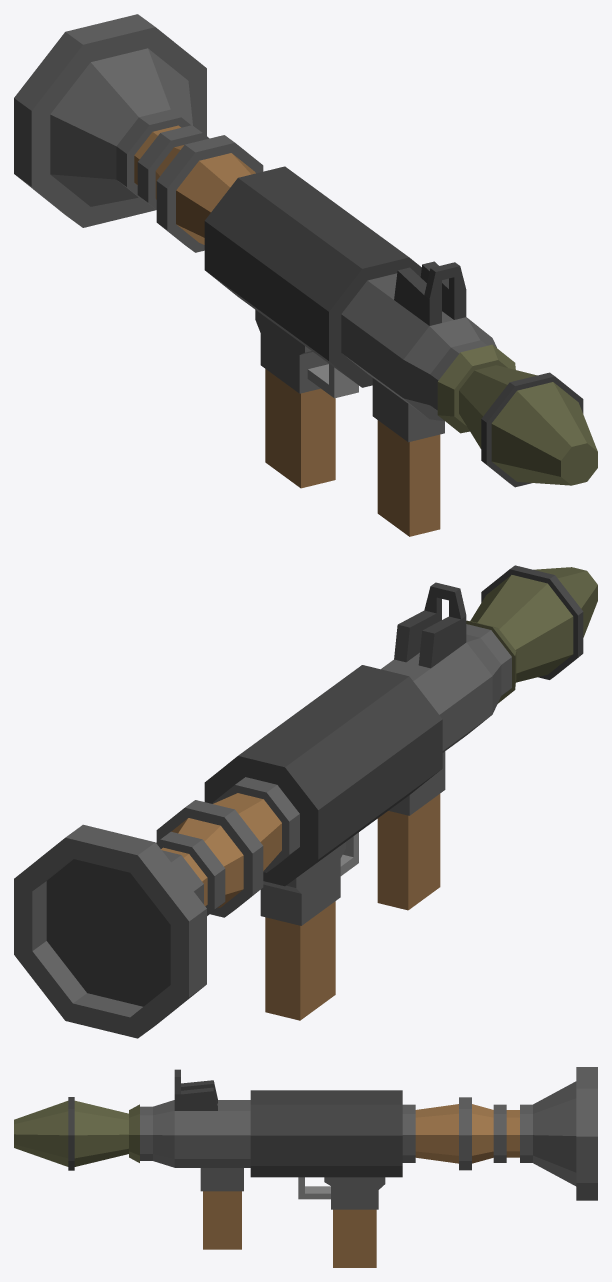
The model's file is rocketlauncher.fbx.
3 renders of one model, top to bottom at view 1: azimuth 30°, elevation 25°; view 2: azimuth 150°, elevation 25°; view 3: azimuth 270°, elevation 25°, orthographic. The views are drawn at different scales.
Visible parts, largest first — view 1: Mesh2_Group3 Group1 Model, Mesh1_Group2 Group1 Model; view 2: Mesh2_Group3 Group1 Model, Mesh1_Group2 Group1 Model; view 3: Mesh2_Group3 Group1 Model, Mesh1_Group2 Group1 Model.
Boxes of the visible parts, box(x1,y1,x2,y2) form: Mesh2_Group3 Group1 Model: box(14, 14, 496, 536); Mesh1_Group2 Group1 Model: box(437, 344, 597, 487); Mesh2_Group3 Group1 Model: box(14, 582, 511, 1038); Mesh1_Group2 Group1 Model: box(466, 565, 597, 703); Mesh2_Group3 Group1 Model: box(140, 1067, 597, 1267); Mesh1_Group2 Group1 Model: box(14, 1097, 139, 1170).
Size of the model in its own units: 0.0342 by 0.0578 by 0.1614.
